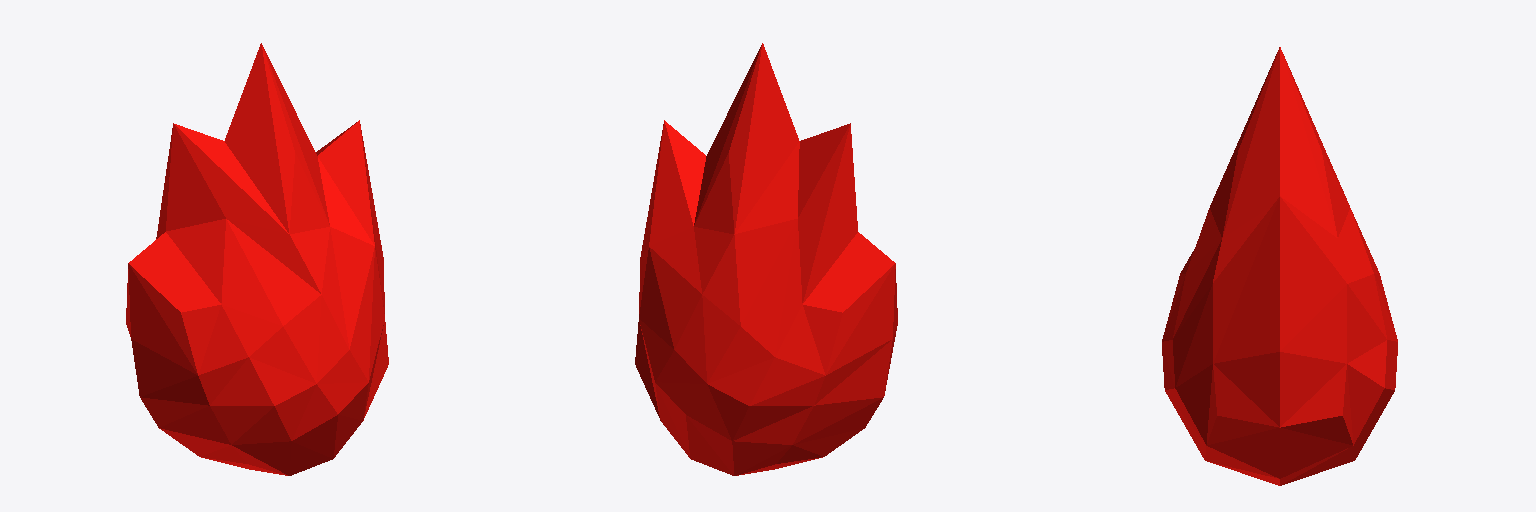
The model's file is FB_CommonPowerup_Prop.obj.
3 renders of one model, left to right at view 1: azimuth 30°, elevation 25°; view 2: azimuth 150°, elevation 25°; view 3: azimuth 270°, elevation 25°, orthographic.
Visible parts, largest first — view 1: polySurface2; view 2: polySurface2; view 3: polySurface2.
Part boxes in pixels (bbox=[...]): polySurface2: bbox=[126, 43, 388, 475]; polySurface2: bbox=[635, 43, 897, 475]; polySurface2: bbox=[1162, 47, 1397, 485].
Bounding box in the file's own units: 35.47 × 56.39 × 28.46.